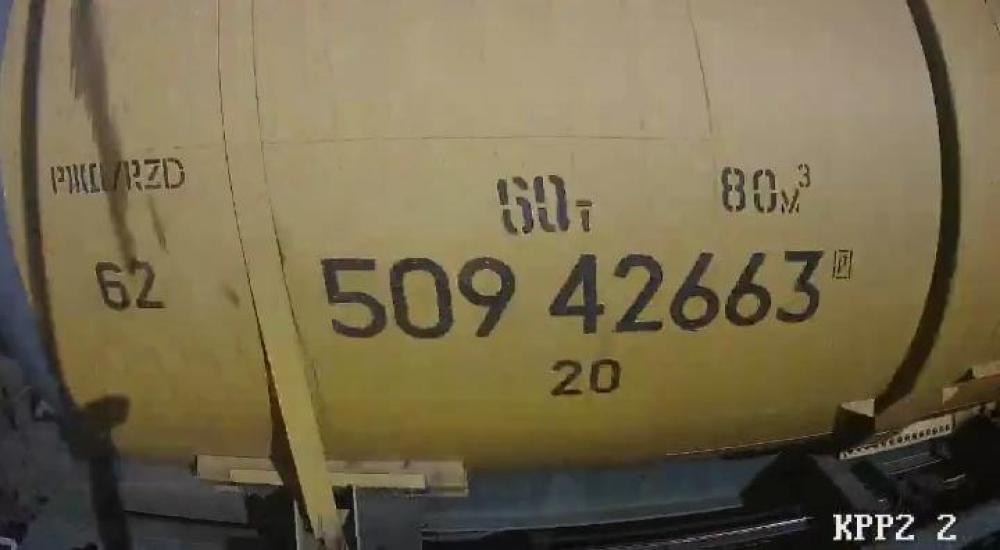Wagon-number: (310, 246, 829, 347)
